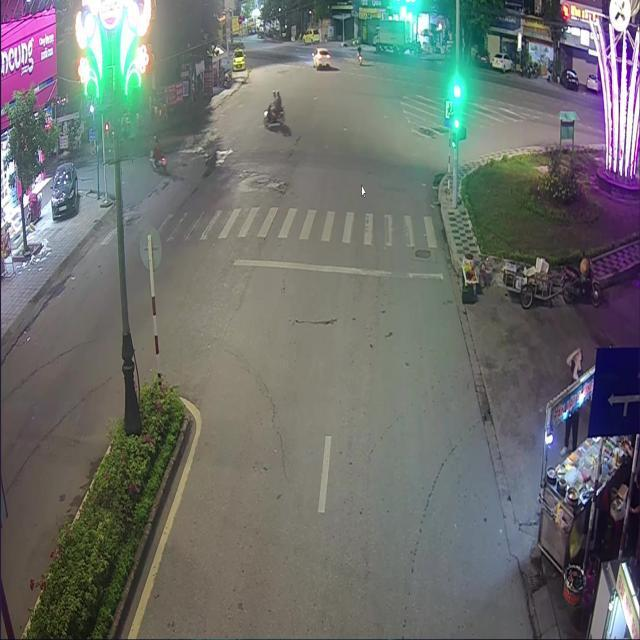car: (312, 46, 330, 68)
green_light: (452, 99, 459, 128)
stop_line: (231, 258, 442, 280)
